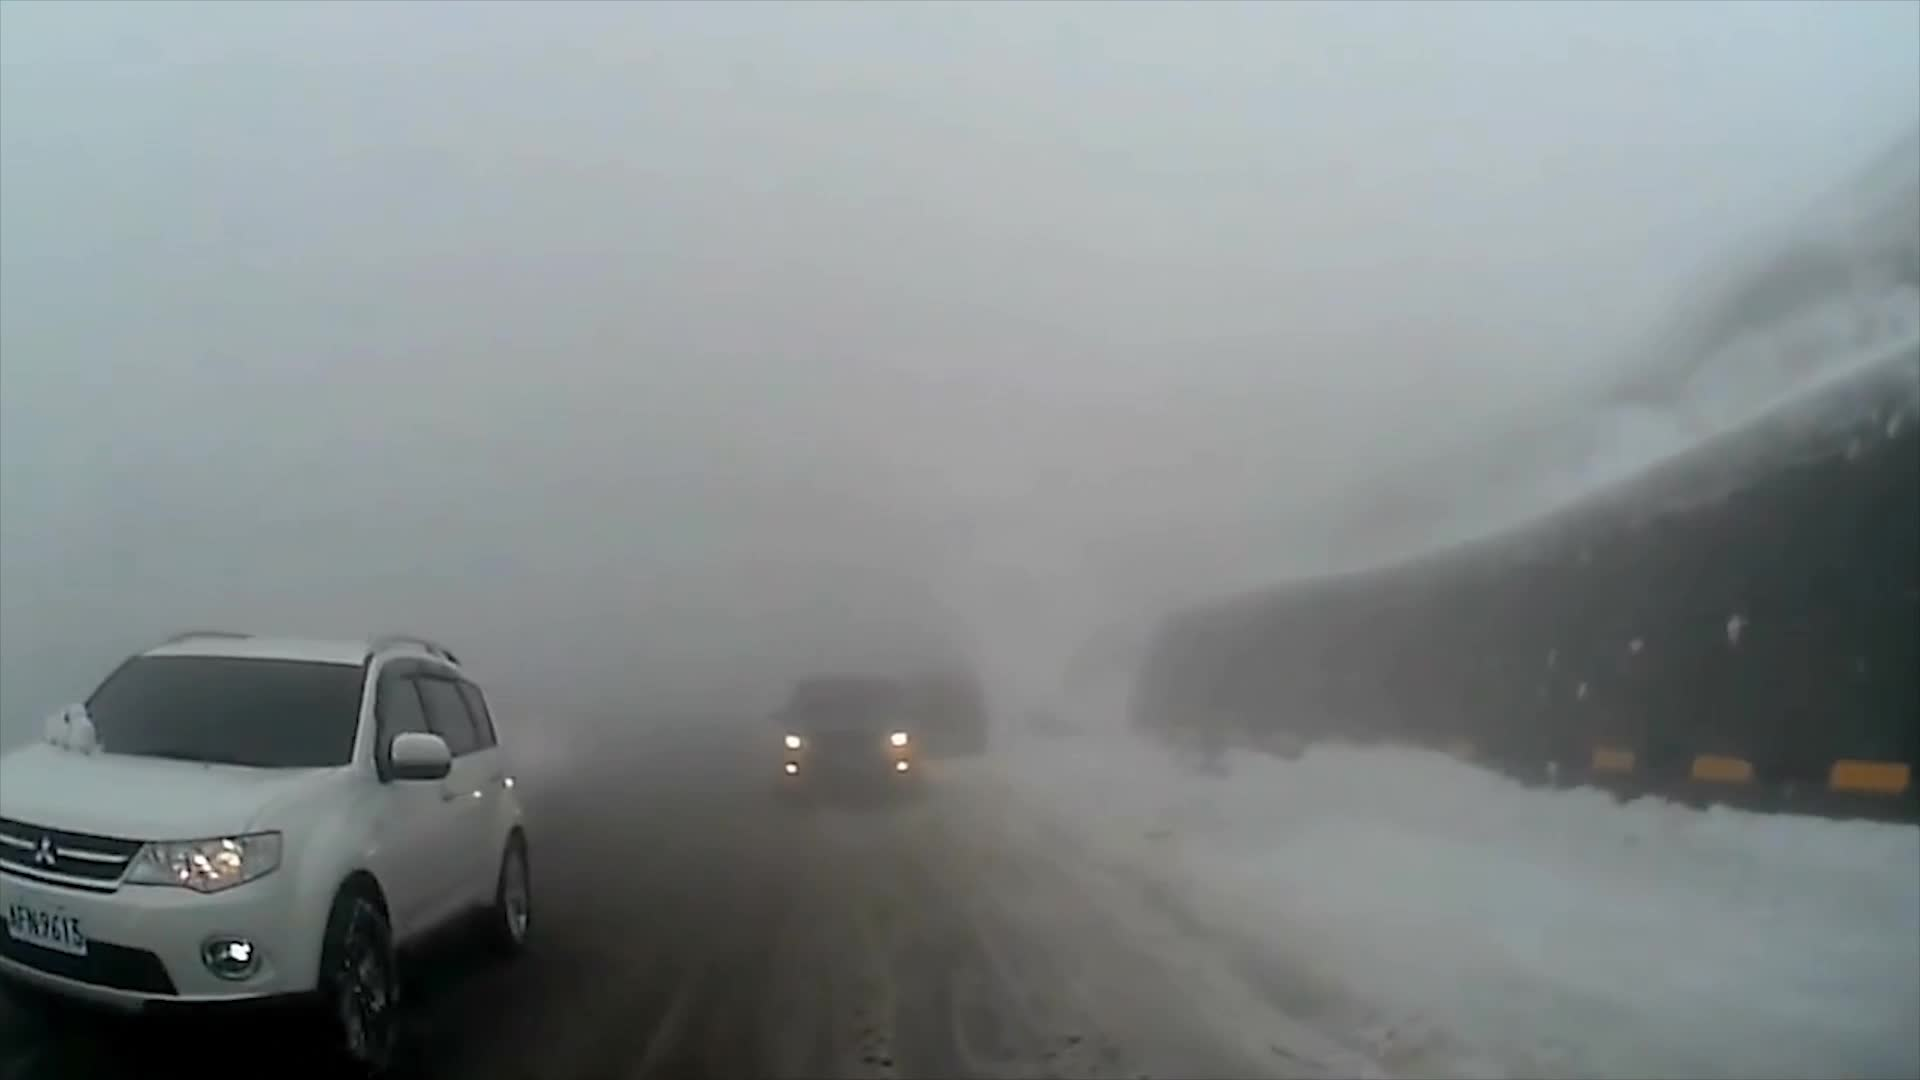vehicle: (0, 629, 537, 1080), (766, 669, 920, 804)
